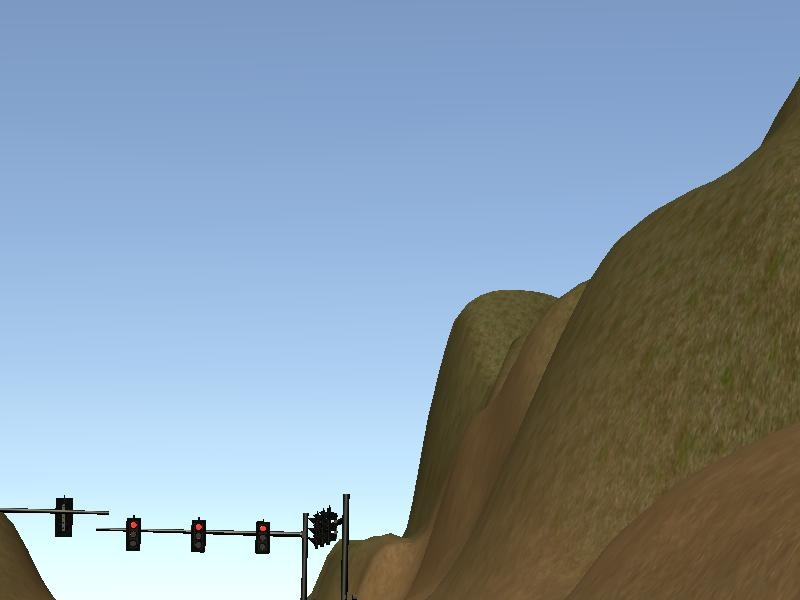red: (118, 514, 145, 550), (187, 517, 212, 553), (251, 520, 274, 559)
